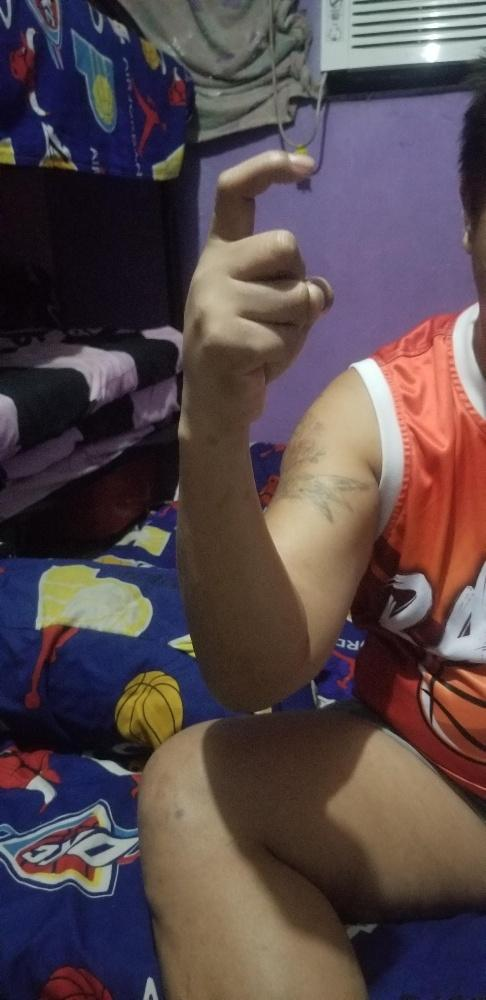x: (177, 148, 334, 435)
